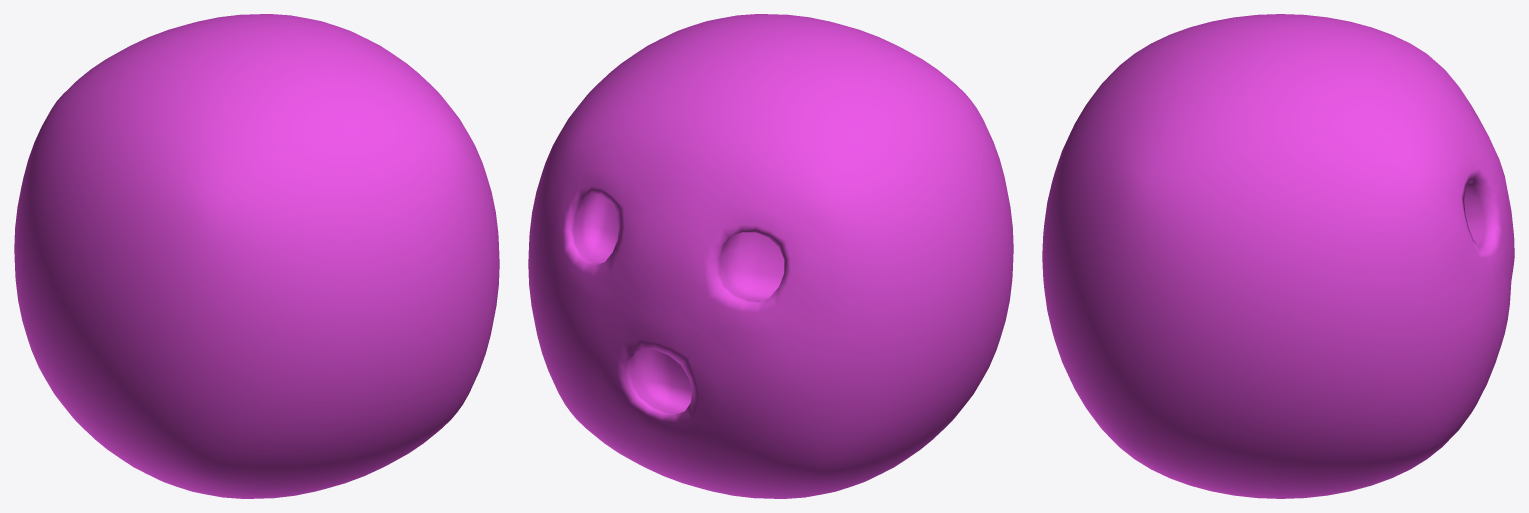
The model's file is BowlingBall.fbx.
3 renders of one model, left to right at view 1: azimuth 30°, elevation 25°; view 2: azimuth 150°, elevation 25°; view 3: azimuth 270°, elevation 25°, orthographic.
Parts seen in each view (by area): view 1: BowlingBall; view 2: BowlingBall; view 3: BowlingBall.
Boxes of the visible parts, x1=… form: BowlingBall: x1=14, y1=14, x2=499, y2=498; BowlingBall: x1=528, y1=14, x2=1013, y2=498; BowlingBall: x1=1042, y1=14, x2=1514, y2=498.
Size of the model in its own units: 283 by 283 by 280.
